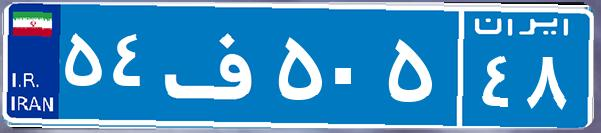0: (330, 28, 385, 110)
4: (475, 38, 525, 113), (110, 28, 158, 105)
5: (385, 28, 445, 110), (273, 28, 330, 110), (57, 26, 110, 107)
8: (525, 38, 570, 115)
ف: (158, 15, 273, 115)
